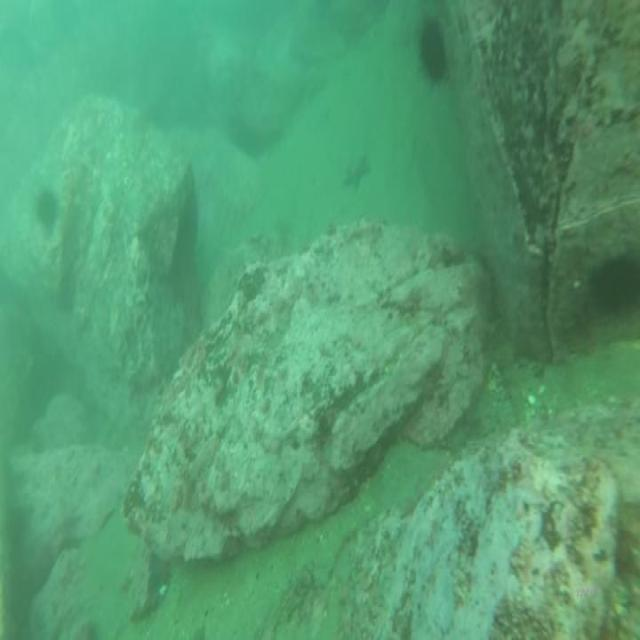echinus: (417, 16, 451, 84), (33, 182, 59, 232)
starfish: (343, 152, 373, 194)
